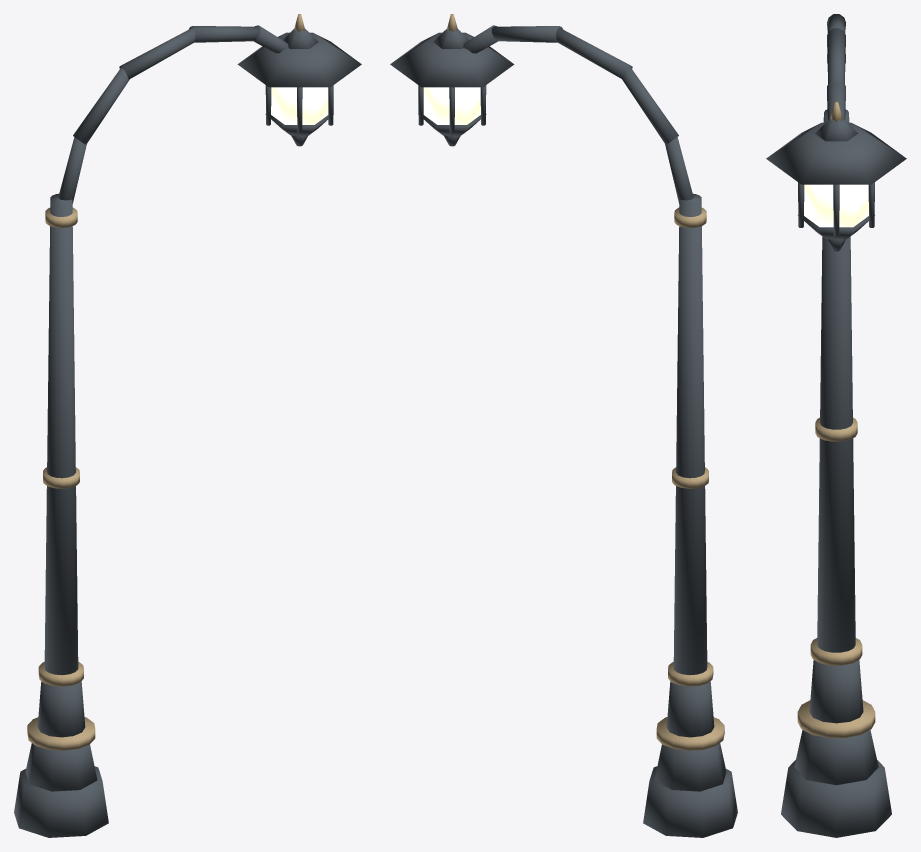
The model's file is street-lamp.glb.
The picture shows the model from 3 angles, left to right: view 1: azimuth 30°, elevation 25°; view 2: azimuth 150°, elevation 25°; view 3: azimuth 270°, elevation 25°; orthographic projection. The views are drawn at different scales.
Parts seen in each view (by area): view 1: lamp_iron, lamp_bronze, lamp_glow; view 2: lamp_iron, lamp_bronze, lamp_glow; view 3: lamp_iron, lamp_bronze, lamp_glow.
Part boxes in pixels (bbox=[...]): lamp_iron: bbox=[14, 25, 361, 837]; lamp_bronze: bbox=[27, 14, 304, 750]; lamp_glow: bbox=[271, 85, 333, 124]; lamp_iron: bbox=[390, 25, 737, 837]; lamp_bronze: bbox=[447, 14, 724, 750]; lamp_glow: bbox=[418, 85, 480, 124]; lamp_iron: bbox=[766, 14, 906, 837]; lamp_bronze: bbox=[797, 101, 875, 737]; lamp_glow: bbox=[804, 184, 868, 227].
Bounding box in the file's own units: 2.31 × 5.11 × 0.76.
